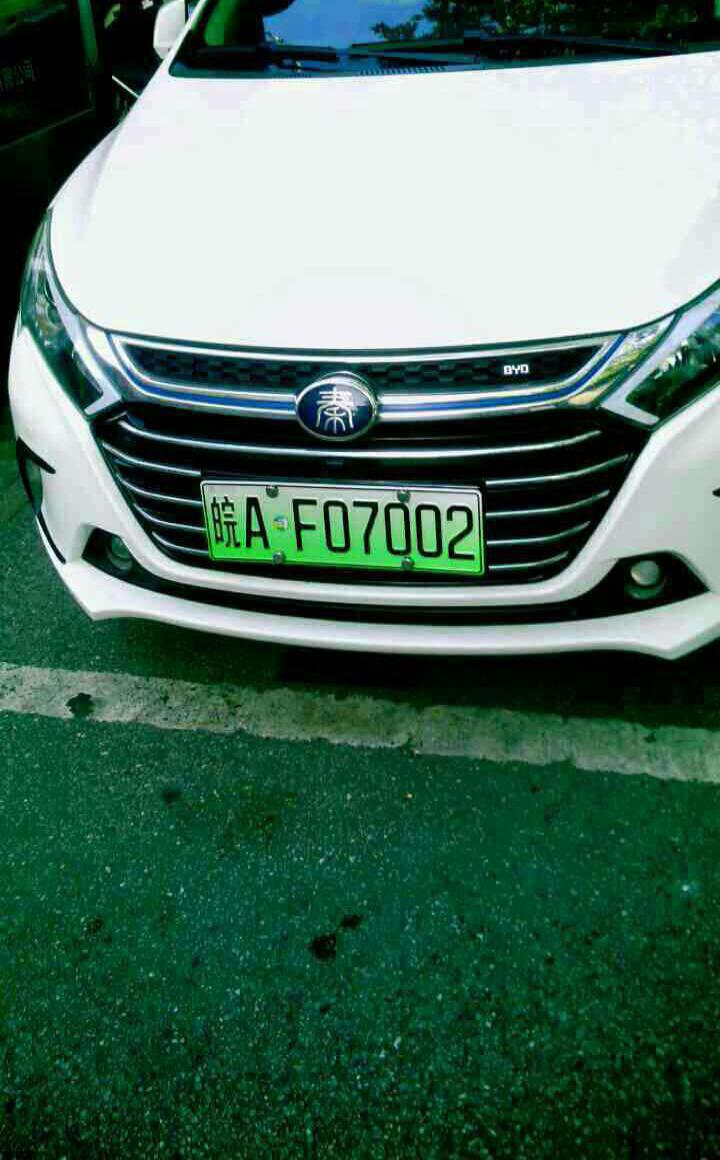car_id: (199, 484, 481, 573)
